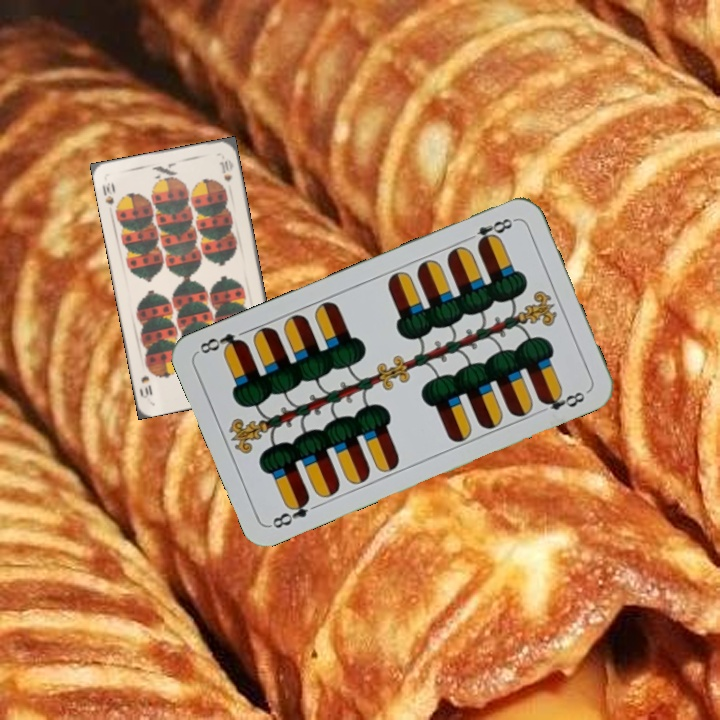E8: (461, 214, 518, 249), (267, 492, 313, 532)
S10: (98, 177, 118, 207)
